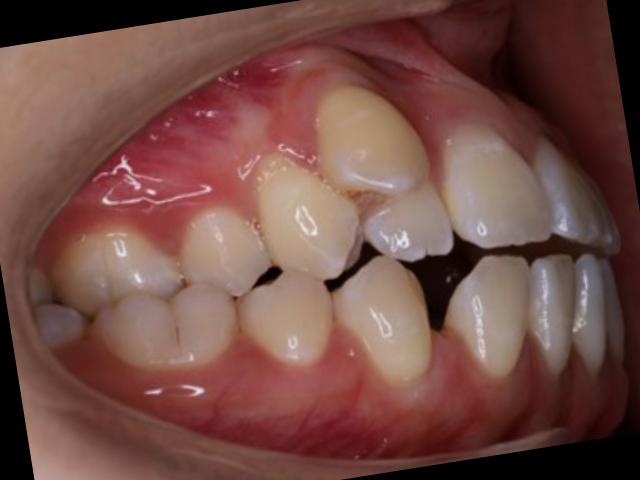canine class I: (296, 60, 550, 416)
molar class III 1/2: (34, 192, 248, 403)
